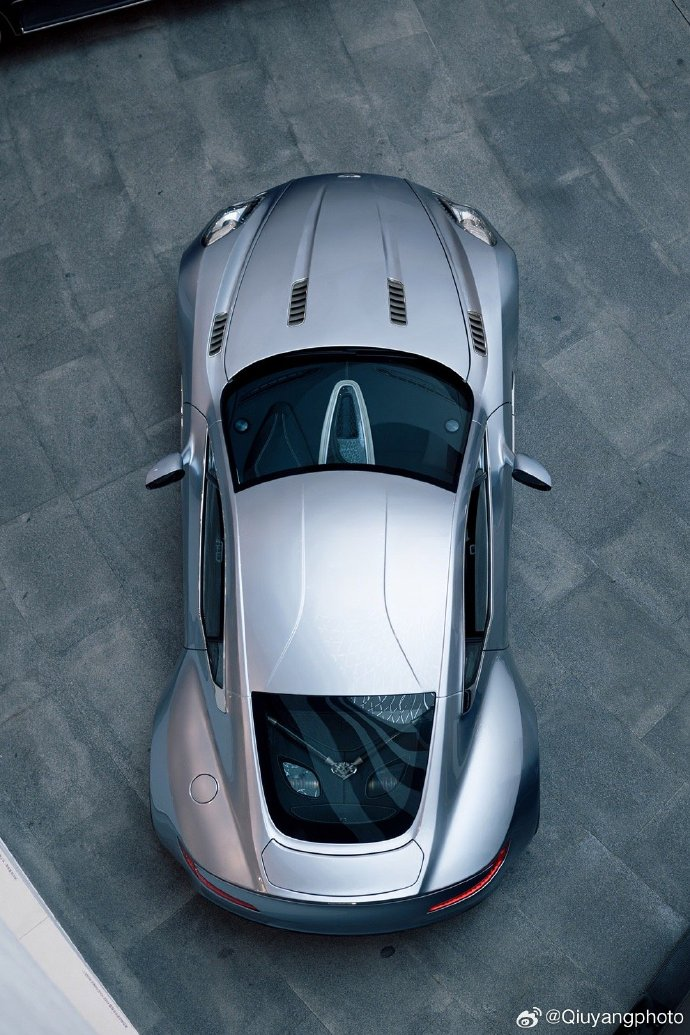other: (166, 161, 551, 947)
